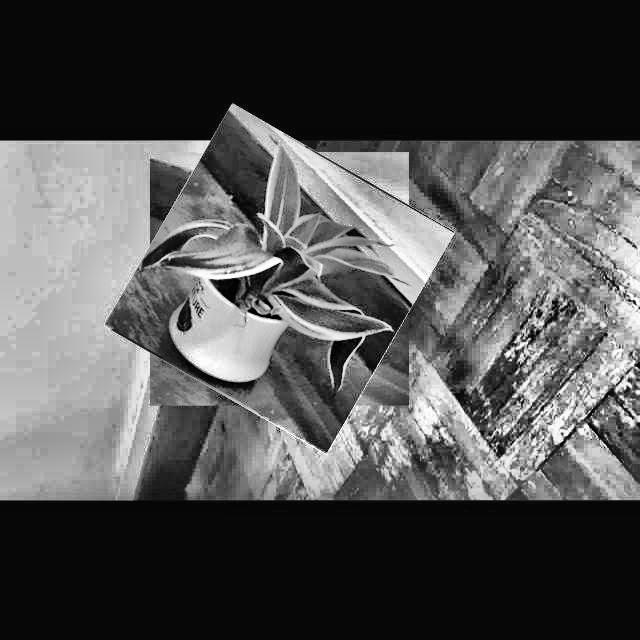plants: (128, 127, 432, 430)
